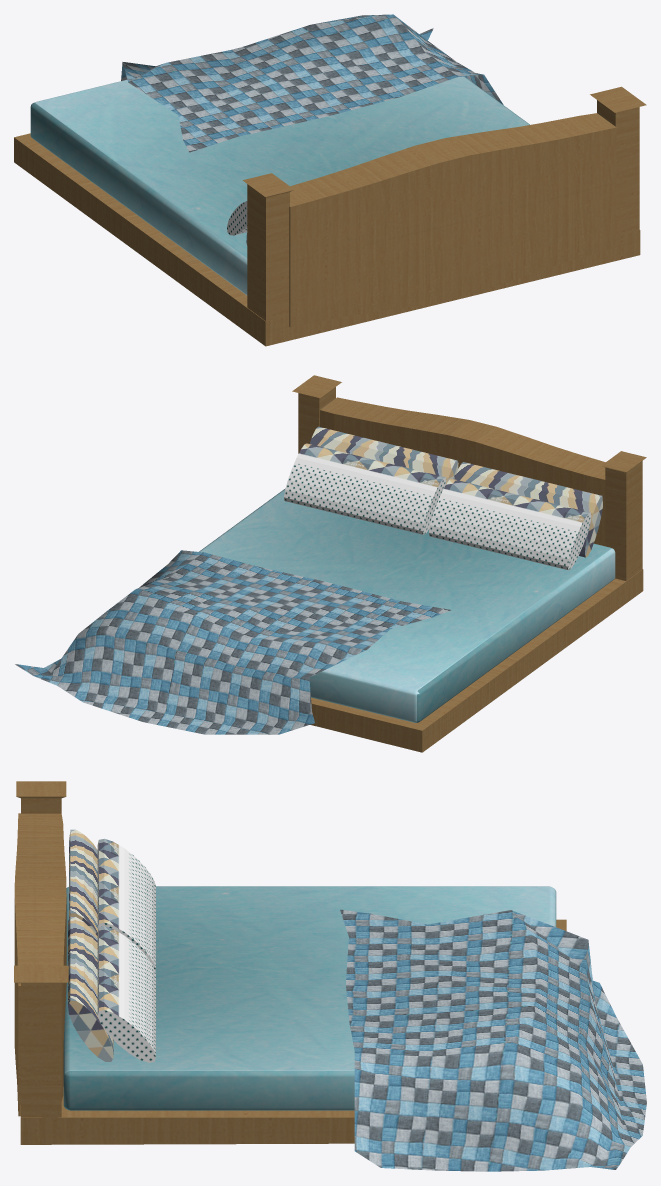
Rendered from FUR0210070.fbx.
3 views of the same model, one above another, from view 1: azimuth 30°, elevation 25°; view 2: azimuth 150°, elevation 25°; view 3: azimuth 270°, elevation 25° (orthographic). The views are drawn at different scales.
Parts seen in each view (by area): view 1: smFUR0210070; view 2: smFUR0210070; view 3: smFUR0210070.
Boxes of the visible parts, x1,y1,x2,y2 form: smFUR0210070: (14,14,646,346); smFUR0210070: (15,375,646,752); smFUR0210070: (14,781,646,1171).
Bounding box in the file's own units: 291 × 98.64 × 330.
1 material, 1 textured.
